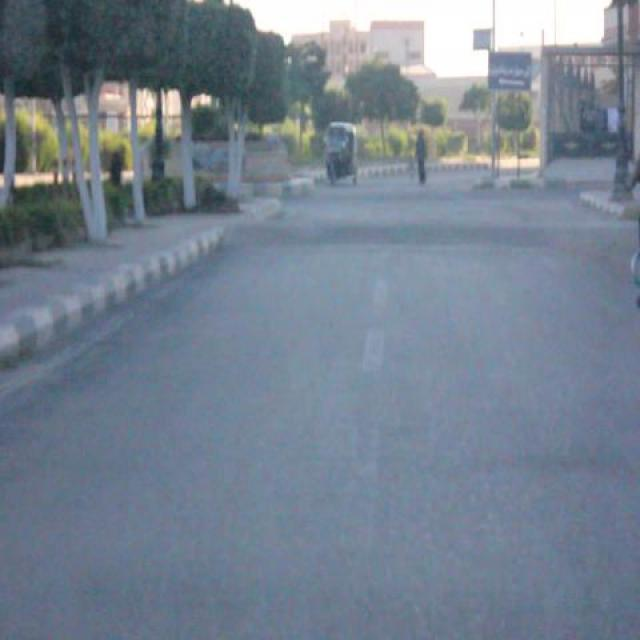Unmarked Bump: (218, 214, 638, 253)
